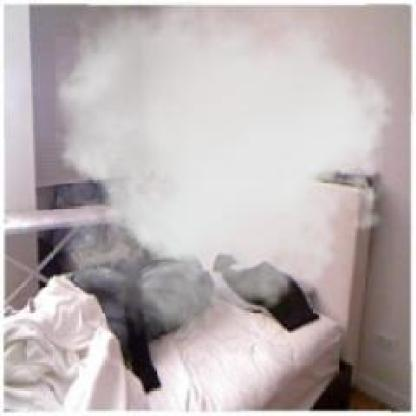Smoke: (55, 2, 406, 352)
